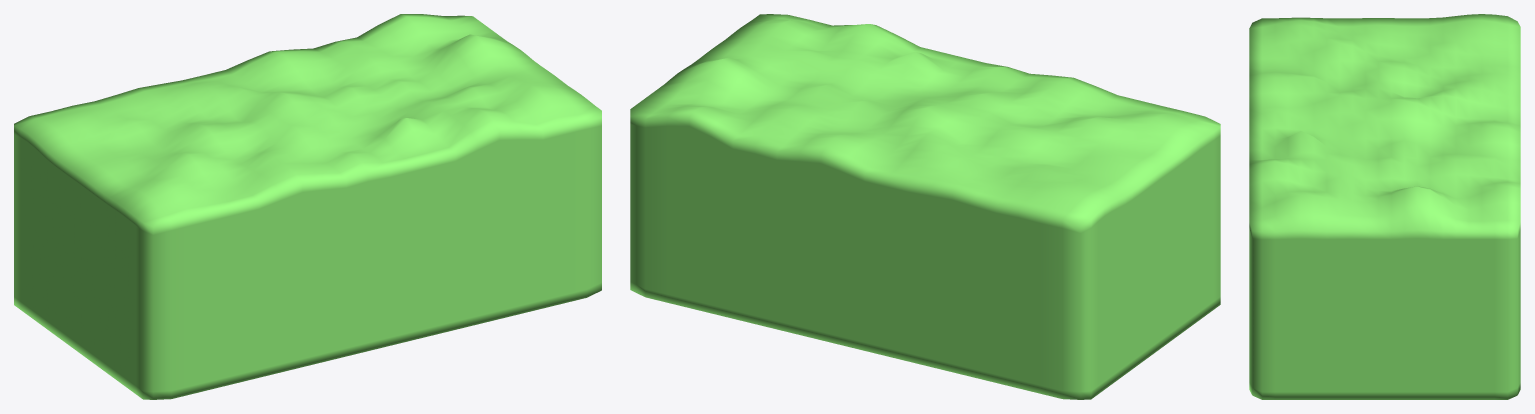
Rendered from menta_lleno.fbx.
The picture shows the model from 3 angles, left to right: view 1: azimuth 30°, elevation 25°; view 2: azimuth 150°, elevation 25°; view 3: azimuth 270°, elevation 25°; orthographic projection. The views are drawn at different scales.
Parts seen in each view (by area): view 1: Menta_Lleno; view 2: Menta_Lleno; view 3: Menta_Lleno.
Boxes of the visible parts, <box> form: Menta_Lleno: <box>14,14,601,399</box>; Menta_Lleno: <box>630,14,1220,399</box>; Menta_Lleno: <box>1249,14,1520,399</box>.
Size of the model in its own units: 351 by 148 by 189.
